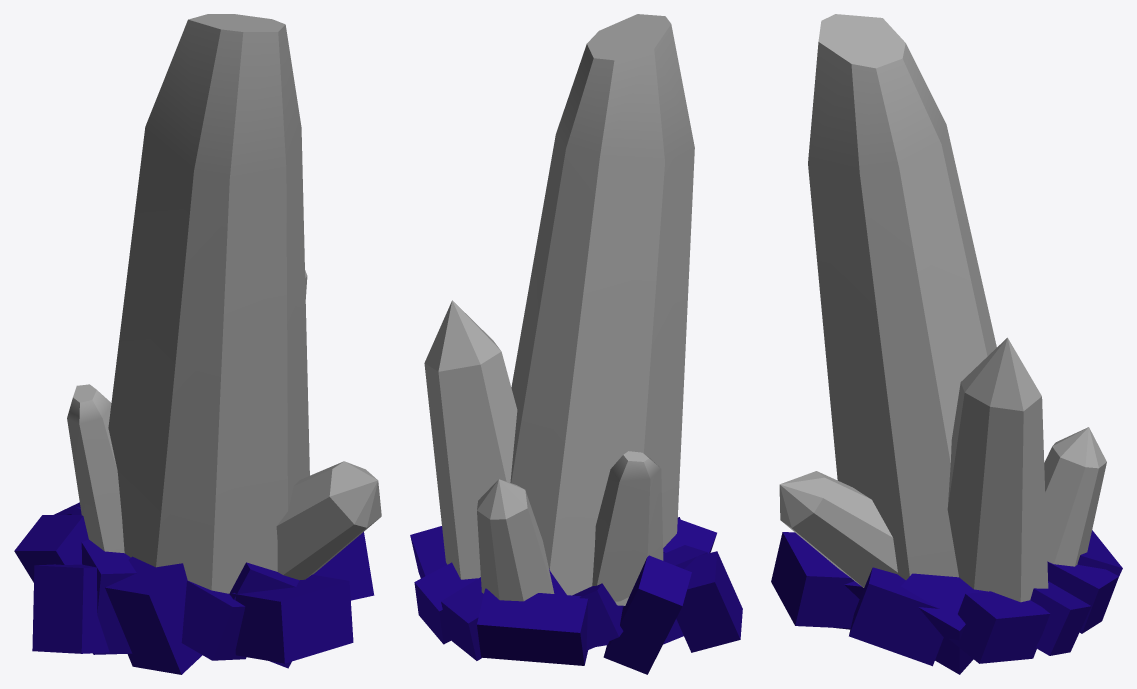
File: SM_Crystals3.fbx
3 views of the same model, side by side, from view 1: azimuth 30°, elevation 25°; view 2: azimuth 150°, elevation 25°; view 3: azimuth 270°, elevation 25° (orthographic). The views are drawn at different scales.
Parts seen in each view (by area): view 1: Crystals3; view 2: Crystals3; view 3: Crystals3.
Part boxes in pixels (x1,y1,x2,y2): Crystals3: [14, 14, 381, 674]; Crystals3: [410, 14, 742, 674]; Crystals3: [771, 14, 1122, 674].
Bounding box in the file's own units: 229 × 423 × 226.
